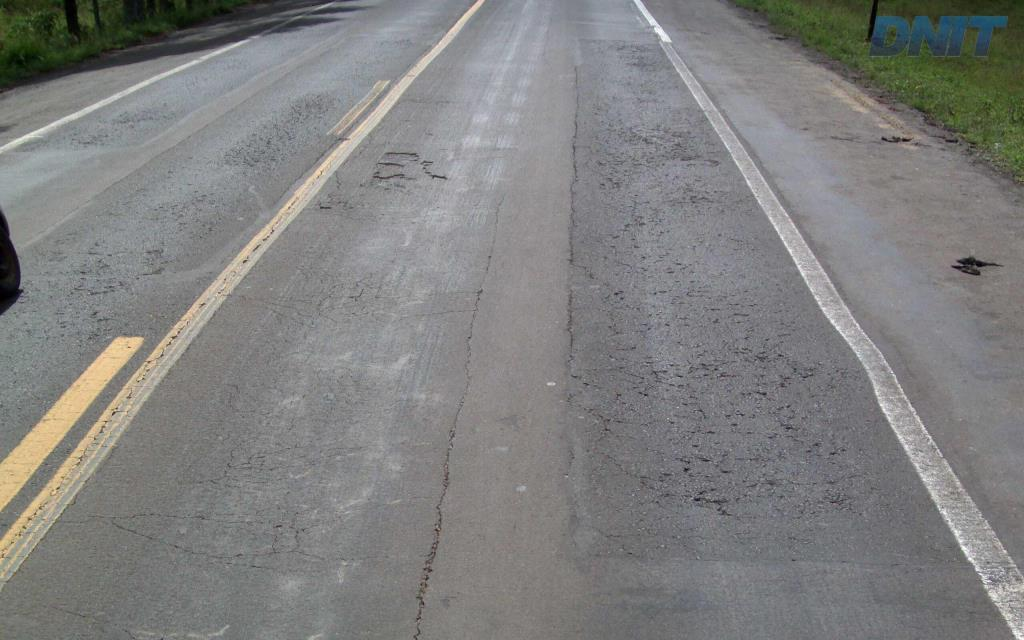pothole: (377, 148, 424, 169), (419, 156, 446, 185), (368, 172, 411, 182)
